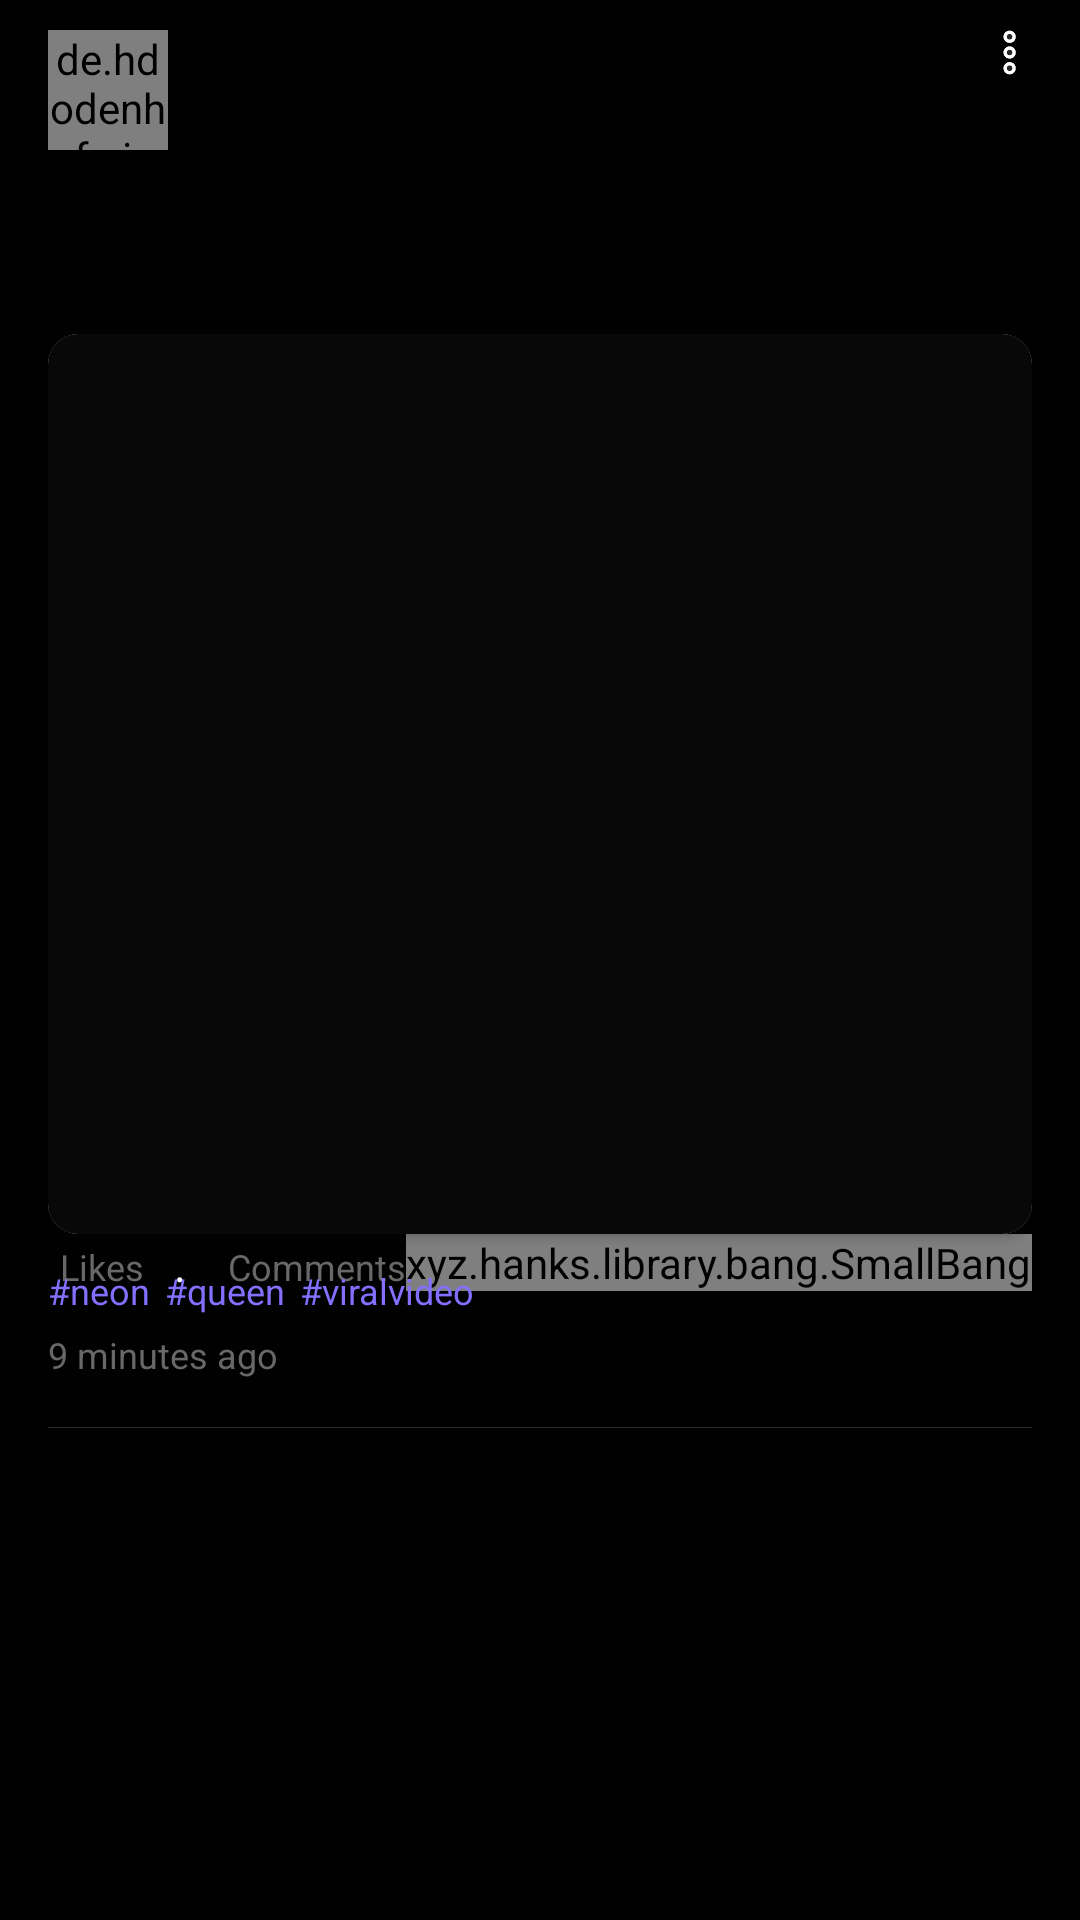

Screen size 1080w x 1920h. Icon name, then its box in pixels as box(x1, y1, x2, y2):
more: box(1003, 30, 1016, 75)
